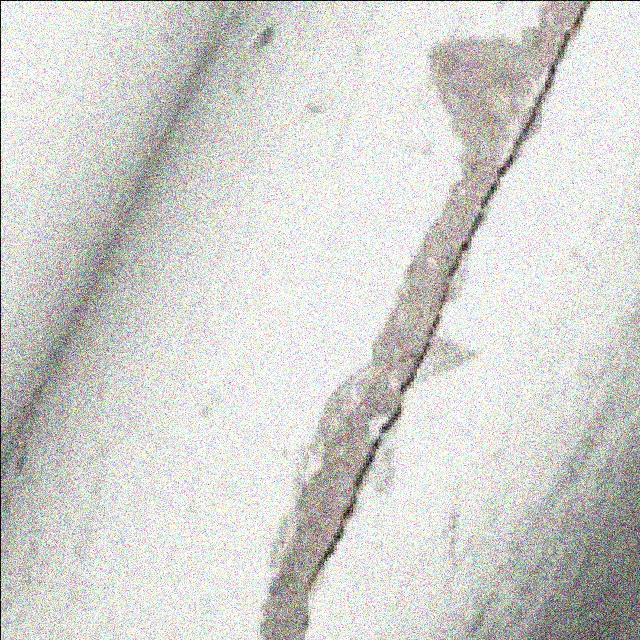SurfaceCrack: (274, 0, 614, 614)
